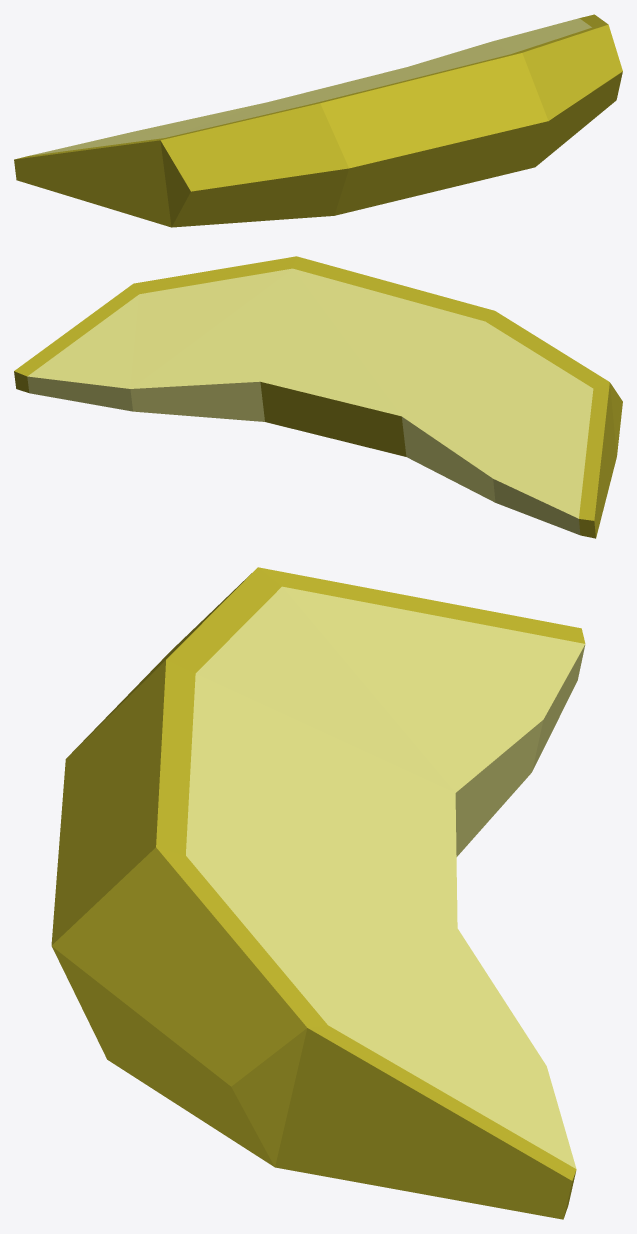
Rendered from melonSlice.fbx.
3 renders of one model, top to bottom at view 1: azimuth 30°, elevation 25°; view 2: azimuth 150°, elevation 25°; view 3: azimuth 270°, elevation 25°, orthographic. The views are drawn at different scales.
Visible parts, largest first — view 1: melonSlice; view 2: melonSlice; view 3: melonSlice.
Part boxes in pixels (<box>): melonSlice: <box>14,14,622,227</box>; melonSlice: <box>14,256,622,538</box>; melonSlice: <box>51,567,585,1219</box>.
Bounding box in the file's own units: 23.84 × 4.23 × 9.53.
1 material, 1 textured.
